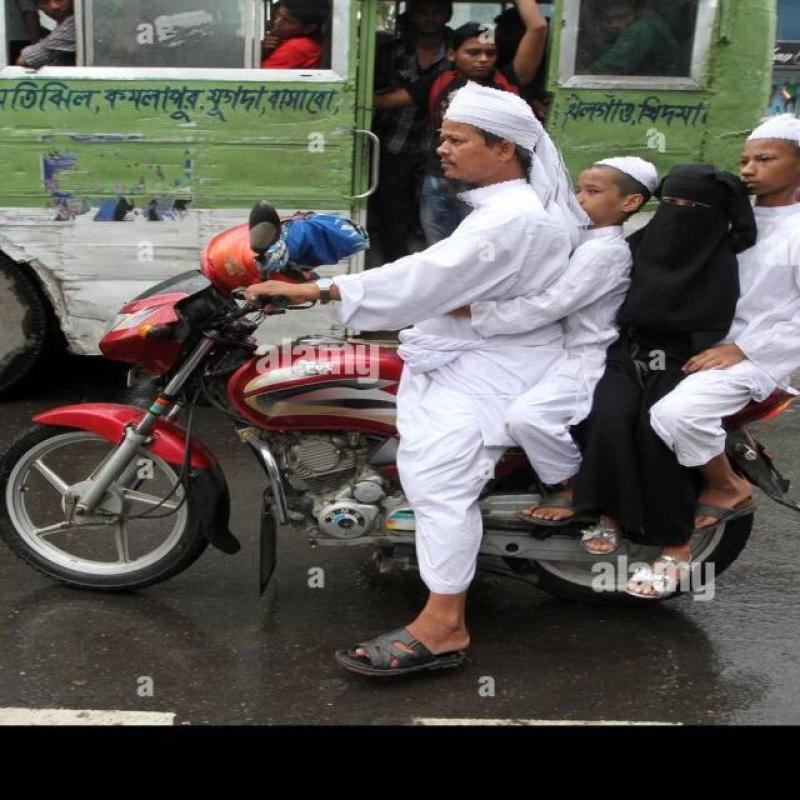nohelmet: (426, 79, 568, 211), (567, 125, 662, 225), (709, 107, 800, 197)
